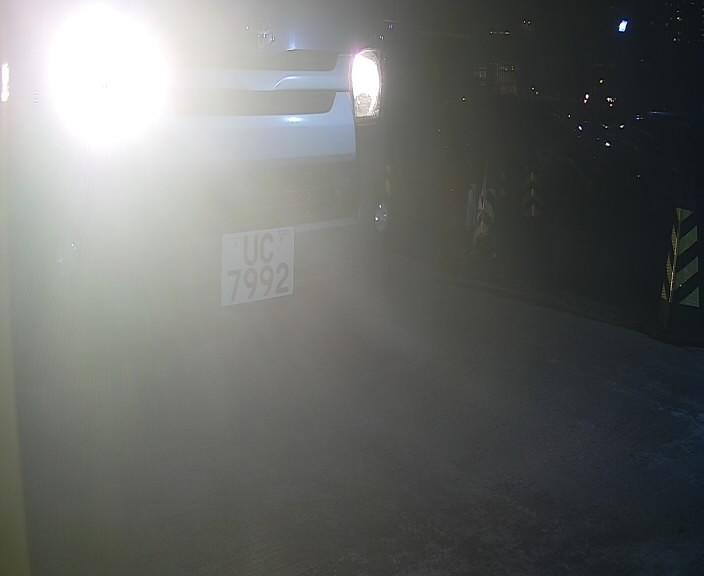Car: (35, 26, 595, 494)
